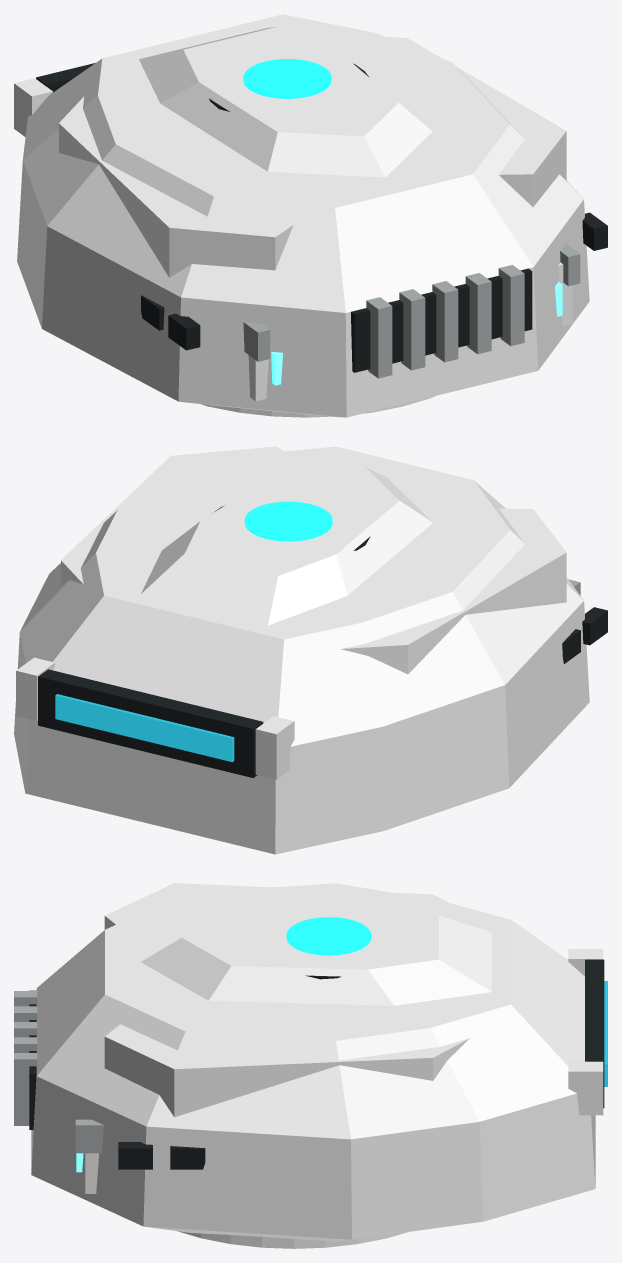
The model's file is morrowgear-charging-relay-v2-proposal.glb.
3 renders of one model, top to bottom at view 1: azimuth 30°, elevation 25°; view 2: azimuth 150°, elevation 25°; view 3: azimuth 270°, elevation 25°, orthographic. The views are drawn at different scales.
Visible parts, largest first — view 1: RelayMonocoque, RelayDorsalSpine, RelayShoulder_-1, RelayShoulder_1, RelayRearHeatSink, RelayStatusAperture, RelayRearFin_3, RelayRearFin_0, RelayRearFin_1, RelayRearFin_2, RelayRearFin_4, RelayVisorGuard_-1 (+9 smaller); view 2: RelayMonocoque, RelayDorsalSpine, RelayShoulder_-1, RelayVisorBezel, RelayVisorGlass, RelayShoulder_1, RelayStatusAperture, RelayVisorGuard_-1, RelayVisorGuard_1, RelaySideVent_-1_2; view 3: RelayMonocoque, RelayDorsalSpine, RelayShoulder_1, RelayStatusAperture, RelayVisorBezel, RelayShoulder_-1, RelayVisorGuard_1, RelayVentralArmor, RelayRearFin_4, RelaySideVent_1_2, RelayThrusterFin_1_+0.19, RelaySideVent_1_1 (+3 smaller).
Part boxes in pixels (x1,y1,x2,y2): RelayMonocoque: (17,14,589,417); RelayDorsalSpine: (139,27,432,177); RelayShoulder_-1: (59,96,293,277); RelayShoulder_1: (386,36,566,206); RelayRearHeatSink: (351,268,532,372); RelayStatusAperture: (243,59,331,98); RelayRearFin_3: (465,273,491,354); RelayRearFin_0: (366,297,392,378); RelayRearFin_1: (399,289,425,370); RelayRearFin_2: (432,281,458,362); RelayRearFin_4: (498,265,524,345); RelayVisorGuard_-1: (14,78,52,136); RelayMonocoque: (14,446,589,854); RelayDorsalSpine: (140,467,432,625); RelayShoulder_-1: (341,508,566,674); RelayVisorBezel: (38,669,263,777); RelayVisorGlass: (55,694,234,762); RelayShoulder_1: (61,446,283,584); RelayStatusAperture: (244,501,332,541); RelayVisorGuard_-1: (255,716,294,779); RelayVisorGuard_1: (16,657,54,720); RelaySideVent_-1_2: (582,607,607,645); RelayMonocoque: (31,883,595,1241); RelayDorsalSpine: (141,905,491,1005); RelayShoulder_1: (104,1024,469,1117); RelayStatusAperture: (286,917,371,955); RelayVisorBezel: (585,959,604,1108); RelayShoulder_-1: (104,883,447,929); RelayVisorGuard_1: (568,1061,603,1115); RelayVentralArmor: (178,1231,407,1248); RelayRearFin_4: (14,1053,37,1125); RelaySideVent_1_2: (118,1142,152,1169); RelayThrusterFin_1_+0.19: (75,1119,103,1153); RelaySideVent_1_1: (170,1146,205,1169).
Size of the model in its own units: 2.68 by 1.48 by 3.07.
